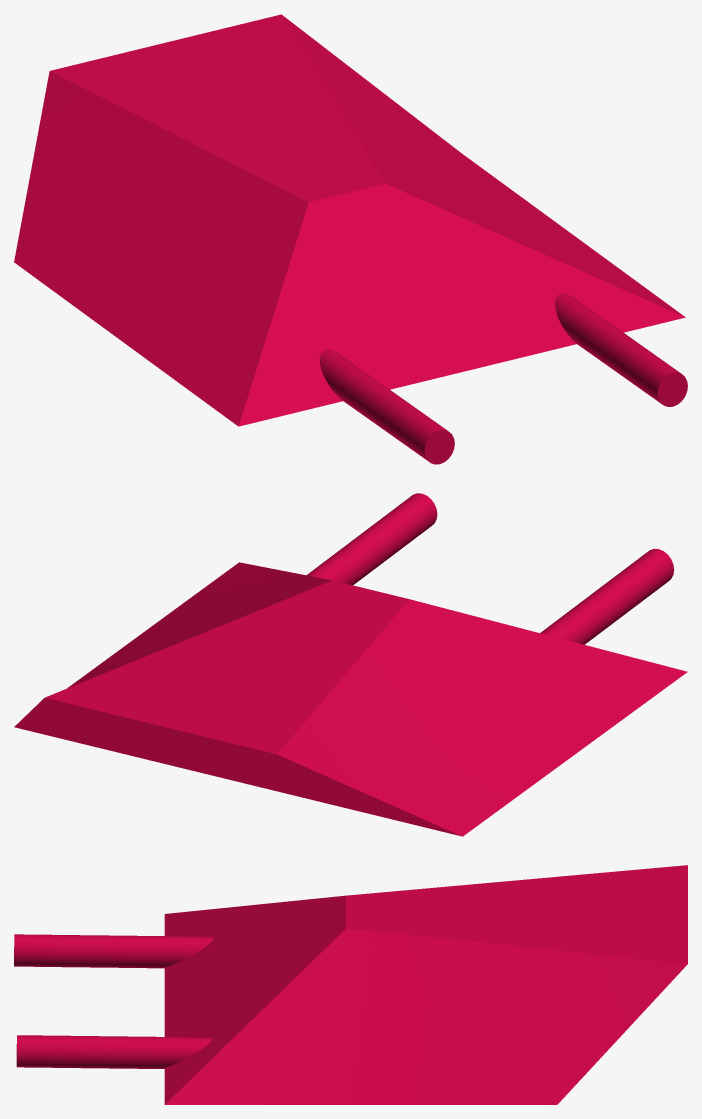
The model's file is sentouki.fbx.
3 renders of one model, top to bottom at view 1: azimuth 30°, elevation 25°; view 2: azimuth 150°, elevation 25°; view 3: azimuth 270°, elevation 25°, orthographic. The views are drawn at different scales.
Parts seen in each view (by area): view 1: pCylinder2; view 2: pCylinder2; view 3: pCylinder2.
Part boxes in pixels (x1=…): pCylinder2: x1=14, y1=14, x2=687, y2=464; pCylinder2: x1=14, y1=493, x2=687, y2=836; pCylinder2: x1=14, y1=865, x2=687, y2=1104.
Bounding box in the file's own units: 1.92 × 0.476 × 2.86.
